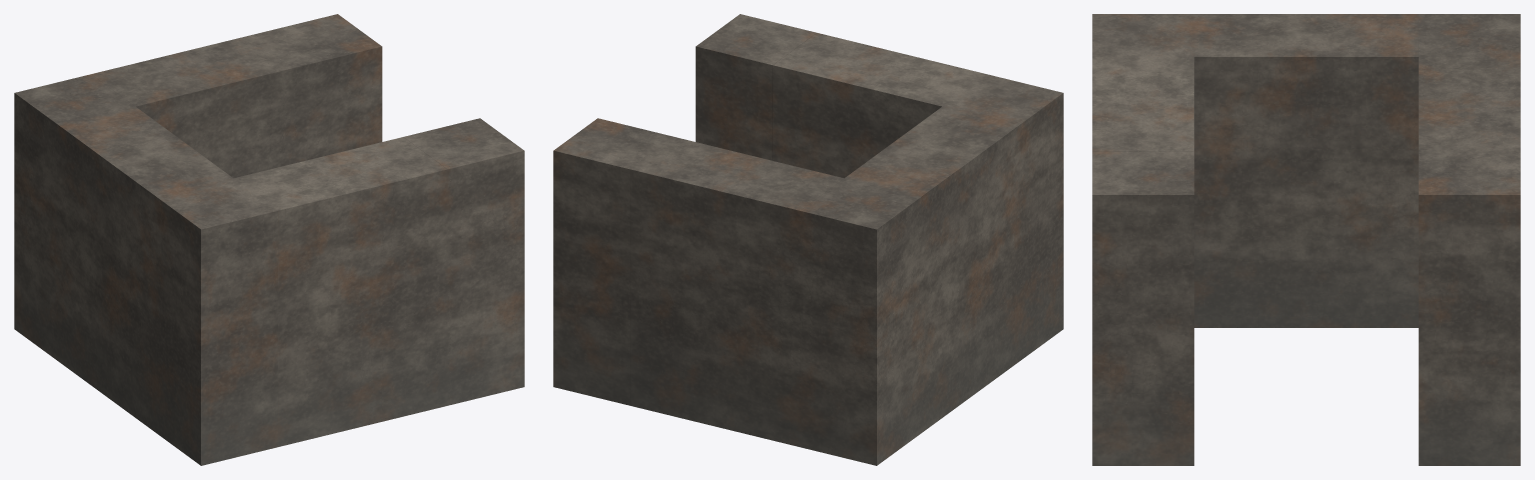
Rendered from dungeon_cave_end_rise.glb.
3 views of the same model, side by side, from view 1: azimuth 30°, elevation 25°; view 2: azimuth 150°, elevation 25°; view 3: azimuth 270°, elevation 25° (orthographic). The views are drawn at different scales.
Visible parts, largest first — view 1: dungeon_cave_end_rise; view 2: dungeon_cave_end_rise; view 3: dungeon_cave_end_rise.
Part boxes in pixels (x1,y1,x2,y2): dungeon_cave_end_rise: [14, 14, 524, 465]; dungeon_cave_end_rise: [553, 14, 1063, 465]; dungeon_cave_end_rise: [1092, 14, 1520, 465].
Size of the model in its own units: 5 by 3.5 by 5.
Materials: 1 (1 with a texture image).
